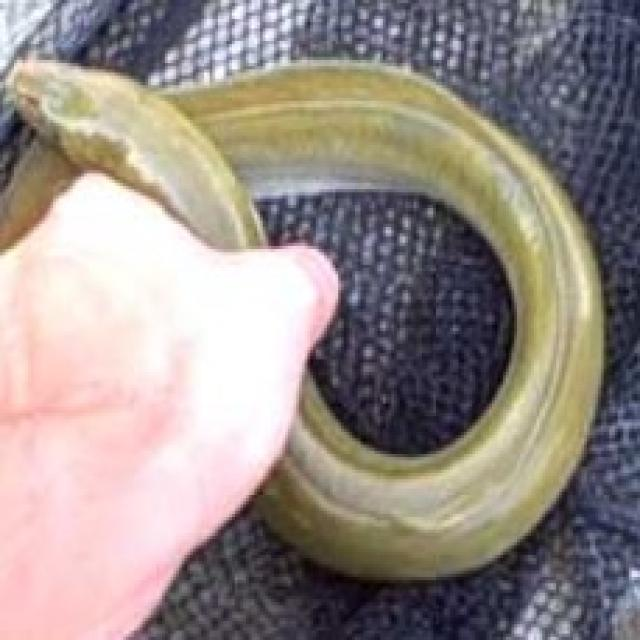Freshwater-Eel: (0, 51, 594, 604)
